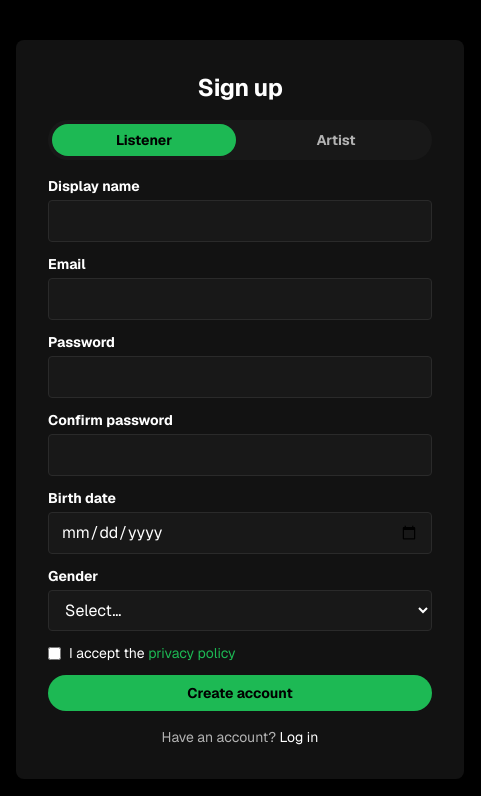
Scenario: RegisterPage (listener) › shows required-field errors on empty submit and creates no user
Step 1. Click the button "Create account" → (240, 693), box [48,675,432,711]
(page scrolled)
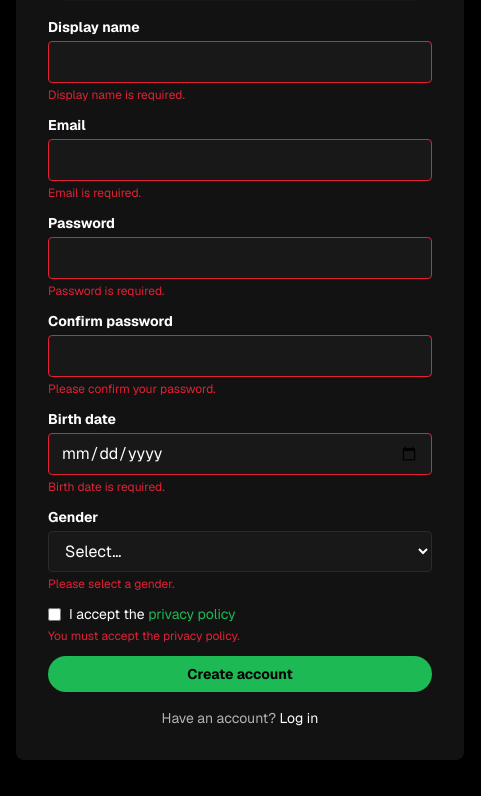
Check: the text "Display name is required." is shown, box [48,87,185,103]
Check: the text "Email is required." is shown, box [48,185,141,201]
Check: the text "Password is required." is shown, box [48,283,164,299]
